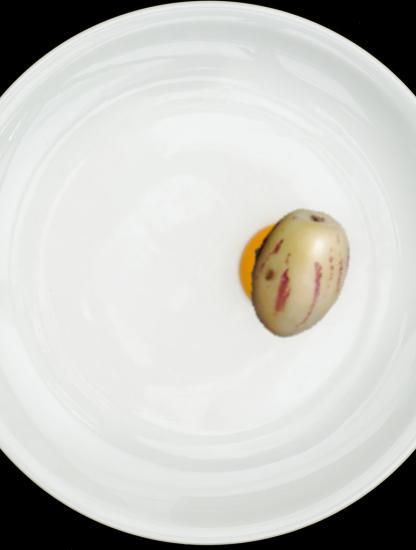Pepino: (232, 206, 364, 338)
